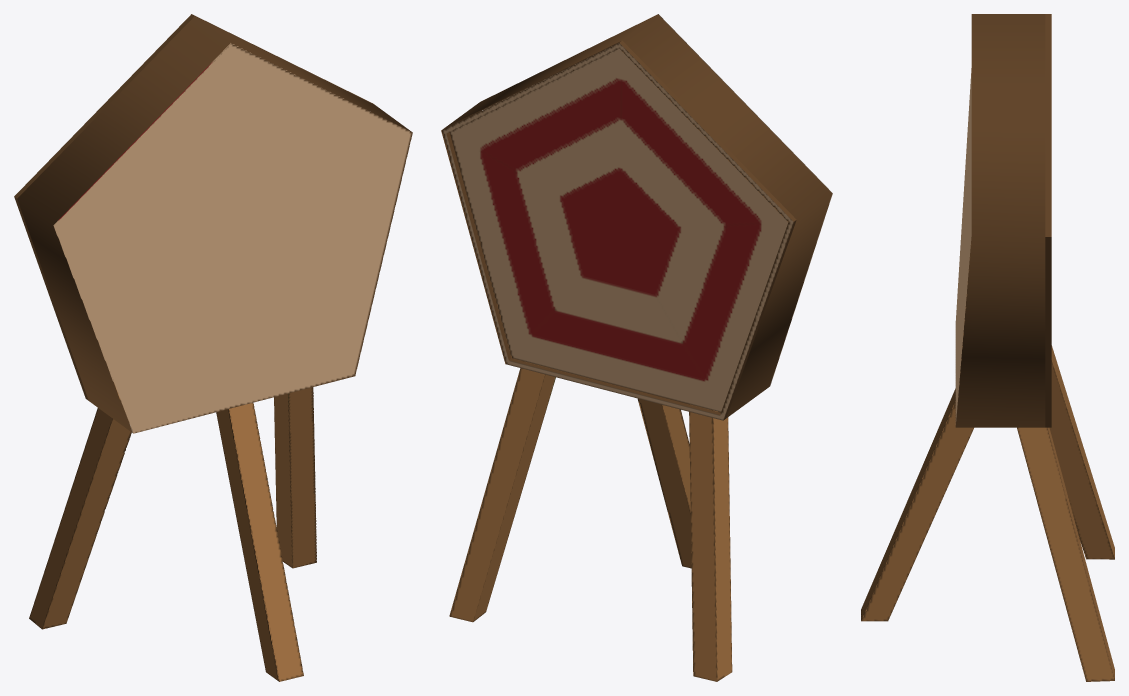
Rendered from M_SpareTarget_03.FBX.
3 views of the same model, side by side, from view 1: azimuth 30°, elevation 25°; view 2: azimuth 150°, elevation 25°; view 3: azimuth 270°, elevation 25° (orthographic). The views are drawn at different scales.
Visible parts, largest first — view 1: Cylinder001; view 2: Cylinder001; view 3: Cylinder001.
Boxes of the visible parts, bbox=[...] form: Cylinder001: bbox=[14, 14, 412, 681]; Cylinder001: bbox=[441, 14, 832, 681]; Cylinder001: bbox=[861, 14, 1114, 681].
Size of the model in its own units: 0.6278 by 0.9976 by 0.383.
